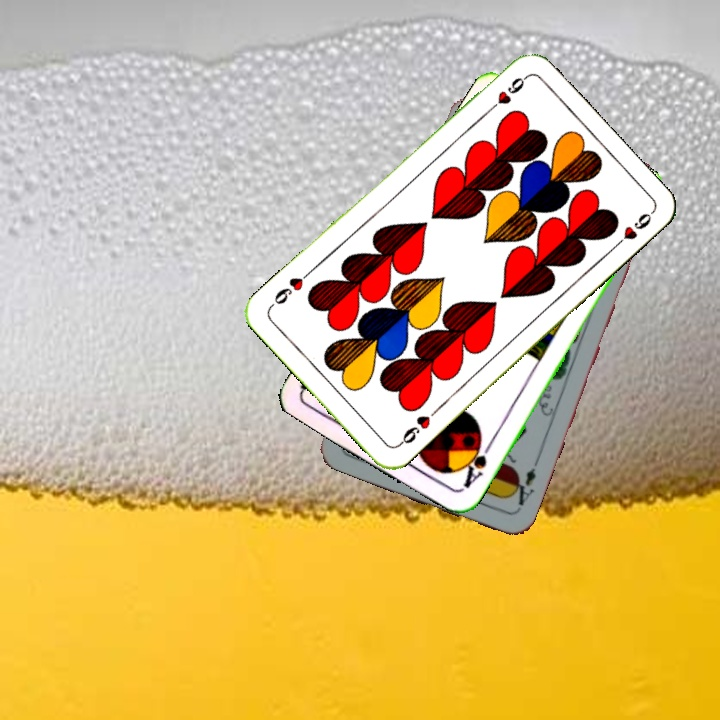EA: (506, 463, 539, 513)
H9: (394, 405, 441, 450), (482, 72, 529, 117)
SA: (456, 435, 494, 493)
